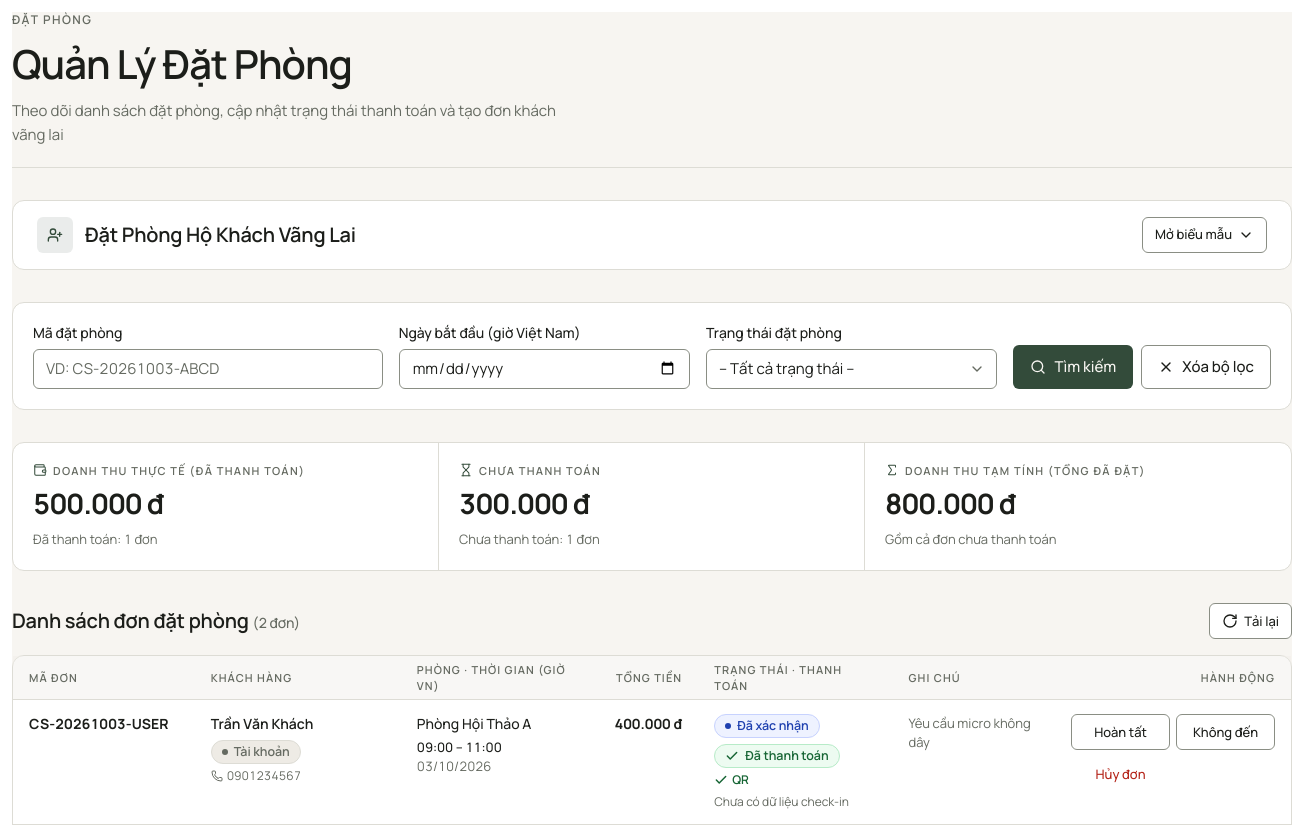
Scenario: AdminBookingsPage - Booking Management & Search › Revenue KPI Summary and State Transition Actions (Complete / No-Show) › keeps the table and refreshes after markNoShow returns 409
Click the button with test id "no-show-booking-btn-booking-1" at {"x": 1226, "y": 732}, box [1176,714,1275,750]
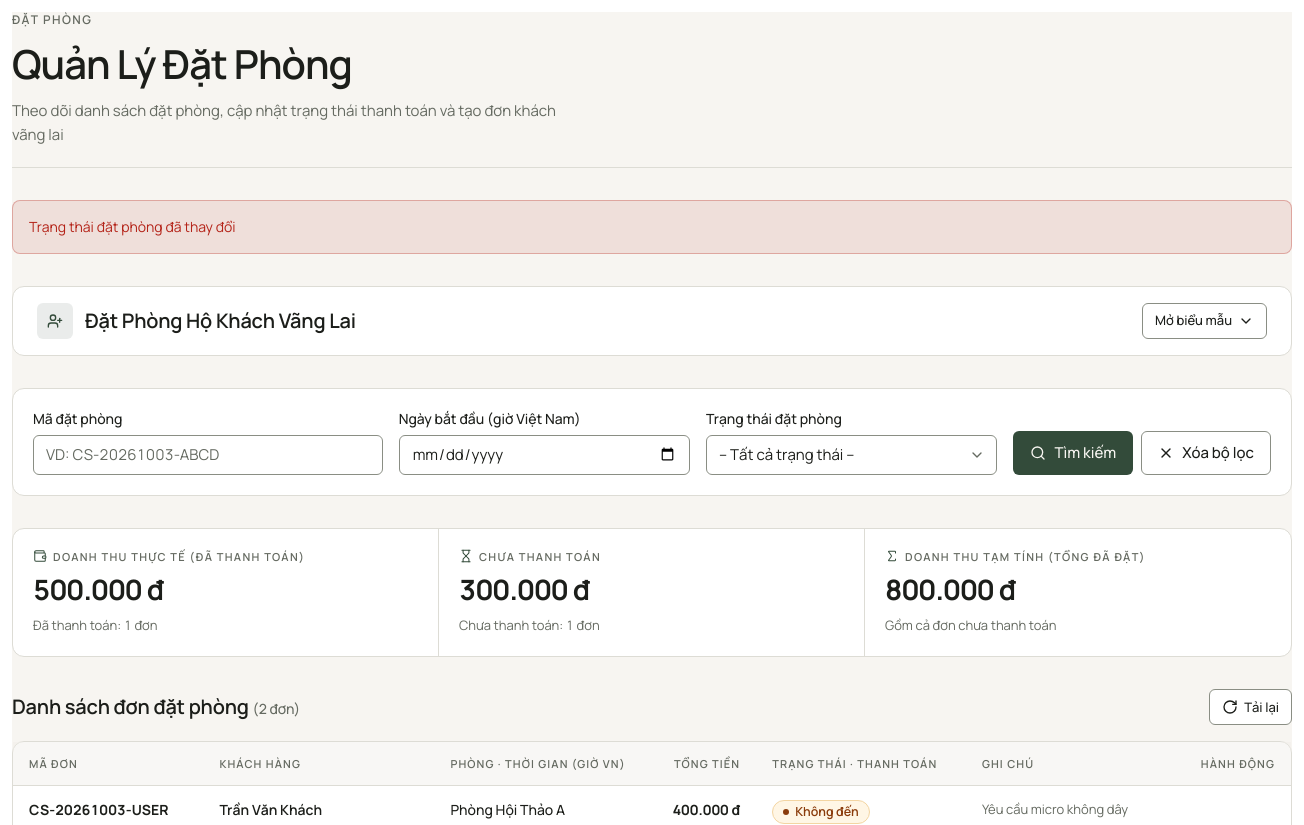
Now the message reads "Trạng thái đặt phòng đã thay đổi", box [29,217,236,236]
Now the button with test id "no-show-booking-btn-booking-1" is gone
